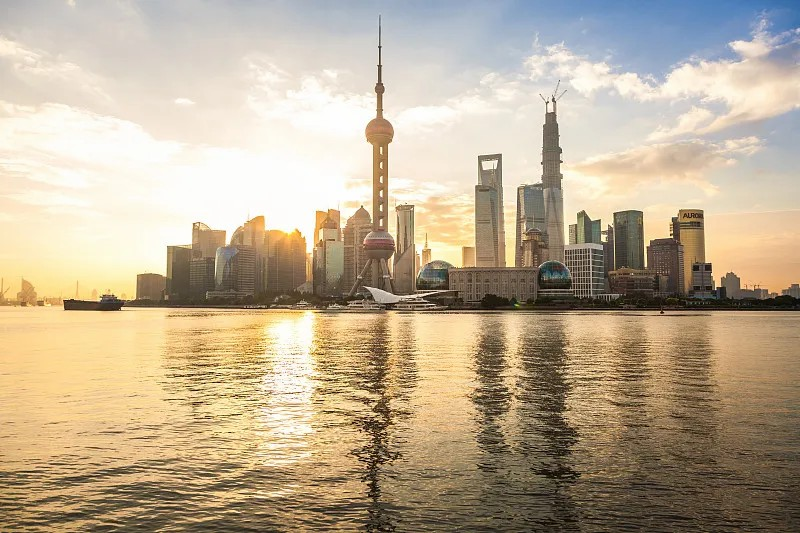Oriental: (348, 16, 398, 295)
